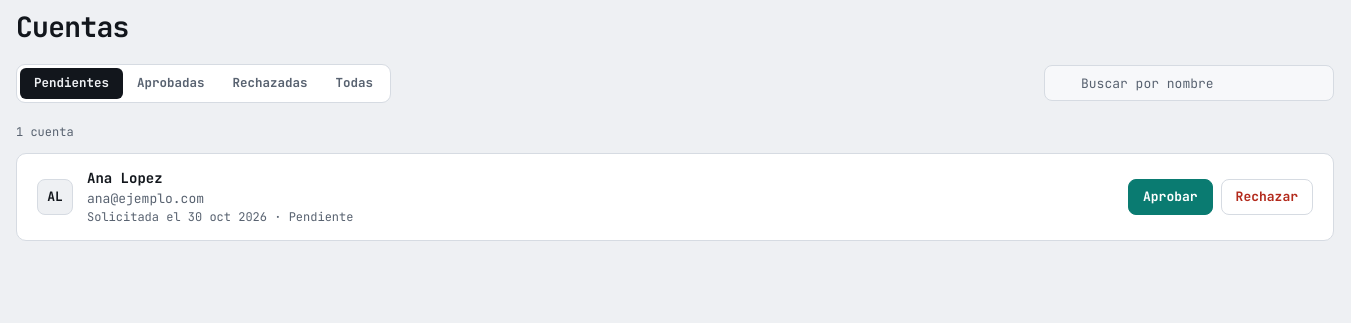
Scenario: PaginaAdministracion › muestra el aviso cuando el motivo es no_existe
Click the button with aria-label "Aprobar a Ana Lopez".
click(1170, 197)  # box [1128,179,1213,215]
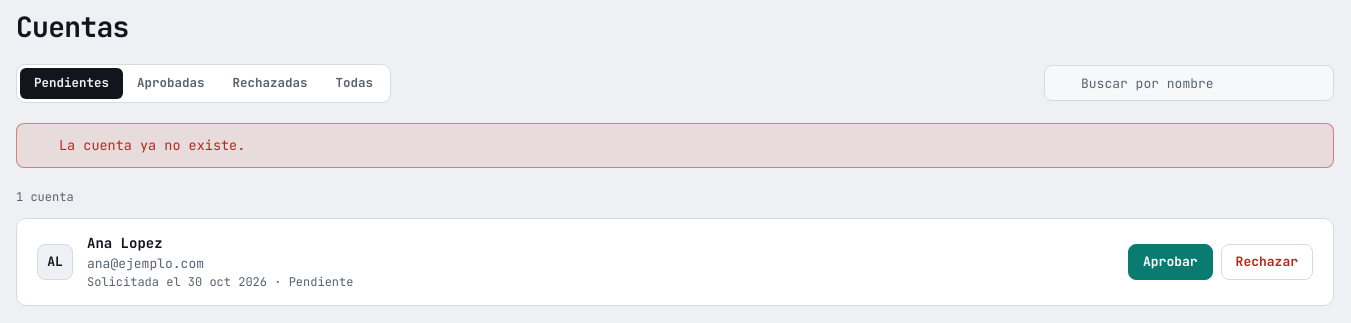
Check: the message "La cuenta ya no existe." is shown, box [16,123,1334,168]
